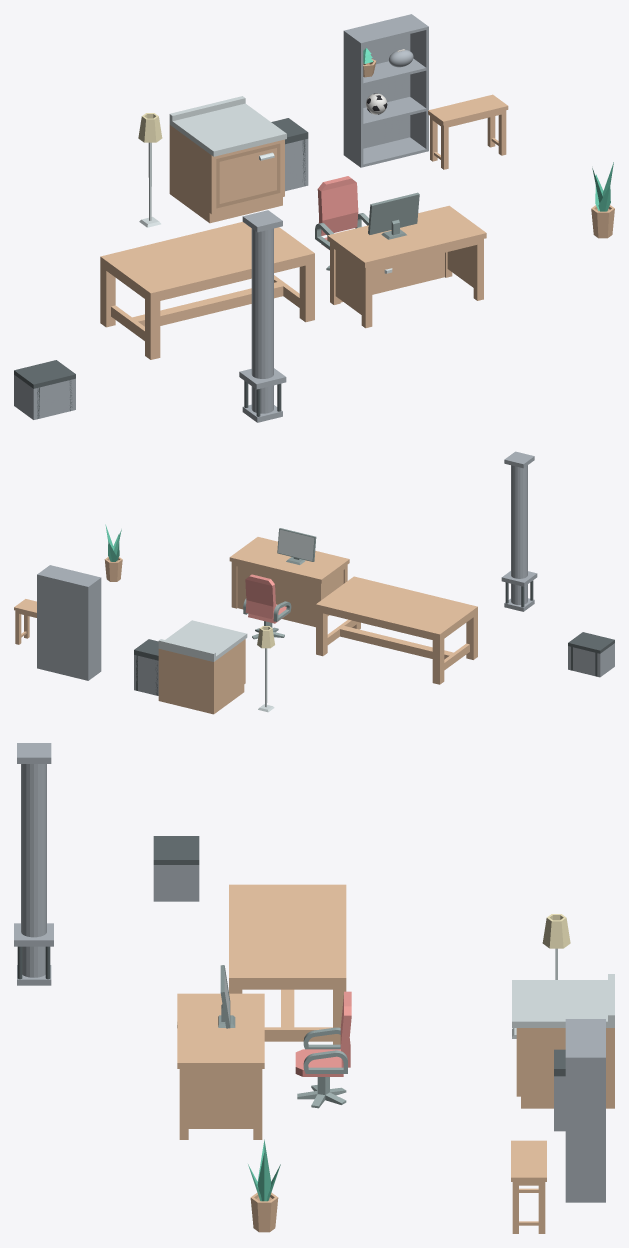
The picture shows the model from 3 angles, top to bottom: view 1: azimuth 30°, elevation 25°; view 2: azimuth 150°, elevation 25°; view 3: azimuth 270°, elevation 25°; orthographic projection. The views are drawn at different scales.
Visible parts, largest first — view 1: table_green__table(Clone), desk_blue__desk(Clone), cabinet_blue__kitchenCabinet(Clone), column_cyan__column_cyan shaft, cabinet_blue__door, sidetable_brown__sideTable(Clone), shelf_orange__shelf_orange back, shelf_orange__shelf_orange side_l, deskchair_black__chair, crate_red__crate_red shell, shelf_orange__shelf_orange side_r, monitor_gray__computerScreen(Clone) (+9 smaller); view 2: table_green__table(Clone), cabinet_blue__kitchenCabinet(Clone), desk_blue__desk(Clone), shelf_orange__shelf_orange back, column_cyan__column_cyan shaft, deskchair_black__chair, shelf_orange__shelf_orange side_l, monitor_gray__computerScreen(Clone), crate_red__crate_red shell, bin_gray__bin_gray shell, sidetable_brown__sideTable(Clone), crate_red__crate_red lid (+3 smaller); view 3: table_green__table(Clone), desk_blue__desk(Clone), cabinet_blue__kitchenCabinet(Clone), shelf_orange__shelf_orange side_r, column_cyan__column_cyan shaft, sidetable_brown__sideTable(Clone), deskchair_black__chair, crate_red__crate_red shell, shelf_orange__shelf_orange board3, crate_red__crate_red lid, lamp_white__lampRoundFloor(Clone), plant_pink__pottedPlant(Clone) (+4 smaller).
Boxes of the visible parts, x1,y1,x2,y2 form: table_green__table(Clone): (100,221,314,359); desk_blue__desk(Clone): (327,205,486,328); cabinet_blue__kitchenCabinet(Clone): (169,96,286,223); column_cyan__column_cyan shaft: (251,228,273,413); cabinet_blue__door: (216,143,280,208); sidetable_brown__sideTable(Clone): (428,94,508,169); shelf_orange__shelf_orange back: (346,15,410,148); shelf_orange__shelf_orange side_l: (343,30,363,167); deskchair_black__chair: (315,176,368,249); crate_red__crate_red shell: (14,375,75,419); shelf_orange__shelf_orange side_r: (409,14,428,151); monitor_gray__computerScreen(Clone): (368,192,419,239); table_green__table(Clone): (316,576,477,684); cabinet_blue__kitchenCabinet(Clone): (158,620,247,714); desk_blue__desk(Clone): (229,537,349,627); shelf_orange__shelf_orange back: (39,574,86,680); column_cyan__column_cyan shaft: (511,465,527,604); deskchair_black__chair: (243,574,291,623); shelf_orange__shelf_orange side_l: (86,577,101,680); monitor_gray__computerScreen(Clone): (277,528,316,564); crate_red__crate_red shell: (568,643,614,677); bin_gray__bin_gray shell: (134,655,158,695); sidetable_brown__sideTable(Clone): (14,599,36,644); crate_red__crate_red lid: (568,632,614,653); table_green__table(Clone): (229,884,346,1044); desk_blue__desk(Clone): (177,993,264,1139); cabinet_blue__kitchenCabinet(Clone): (512,974,614,1108); shelf_orange__shelf_orange side_r: (565,1056,605,1202); column_cyan__column_cyan shaft: (21,764,46,977); sidetable_brown__sideTable(Clone): (511,1140,546,1233); deskchair_black__chair: (295,991,351,1076); crate_red__crate_red shell: (153,865,199,901); shelf_orange__shelf_orange board3: (565,1020,603,1055); crate_red__crate_red lid: (153,836,199,864); lamp_white__lampRoundFloor(Clone): (542,914,570,979); plant_pink__pottedPlant(Clone): (250,1192,278,1232).
Size of the model in its own units: 7.39 by 2.2 by 5.25.
